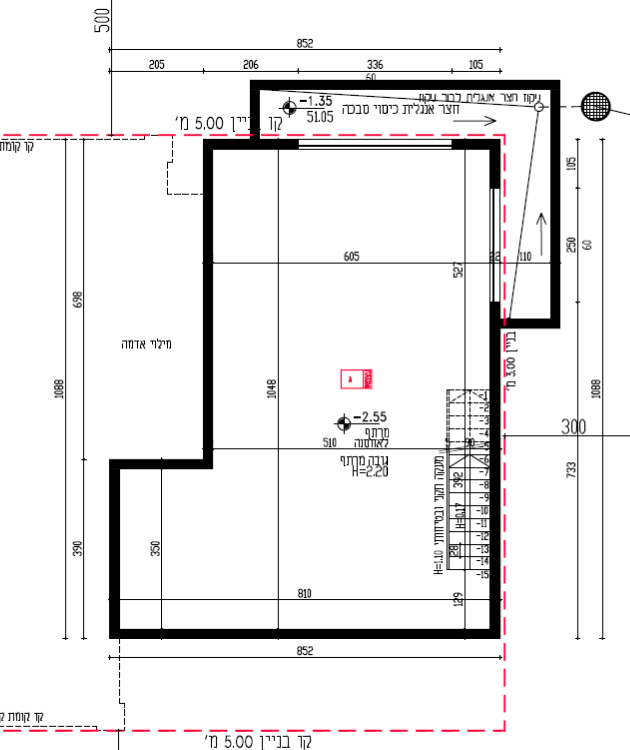wall: (203, 139, 214, 467), (135, 629, 474, 639), (489, 304, 498, 640), (111, 459, 121, 635)
